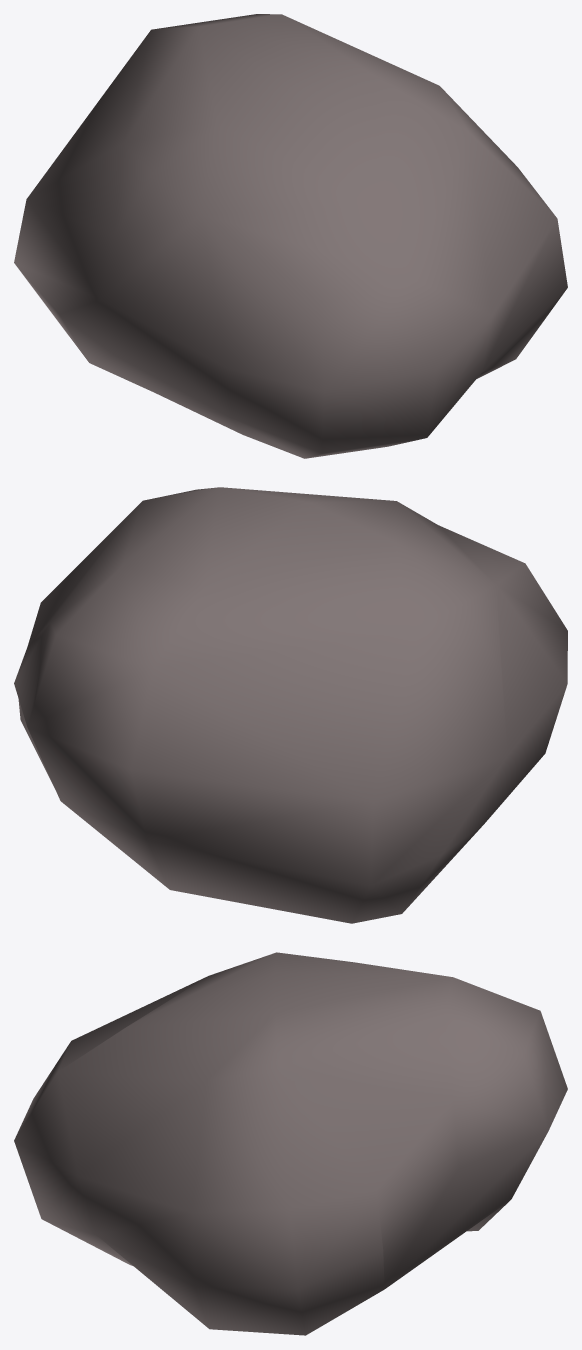
Rendered from Rock01.fbx.
3 renders of one model, top to bottom at view 1: azimuth 30°, elevation 25°; view 2: azimuth 150°, elevation 25°; view 3: azimuth 270°, elevation 25°, orthographic. The views are drawn at different scales.
Visible parts, largest first — view 1: Rock01; view 2: Rock01; view 3: Rock01.
Part boxes in pixels (box(x1,y1,x2,y2)): Rock01: box(14, 14, 567, 458); Rock01: box(14, 487, 567, 923); Rock01: box(14, 952, 567, 1335).
Bounding box in the file's own units: 358 × 249 × 423.
